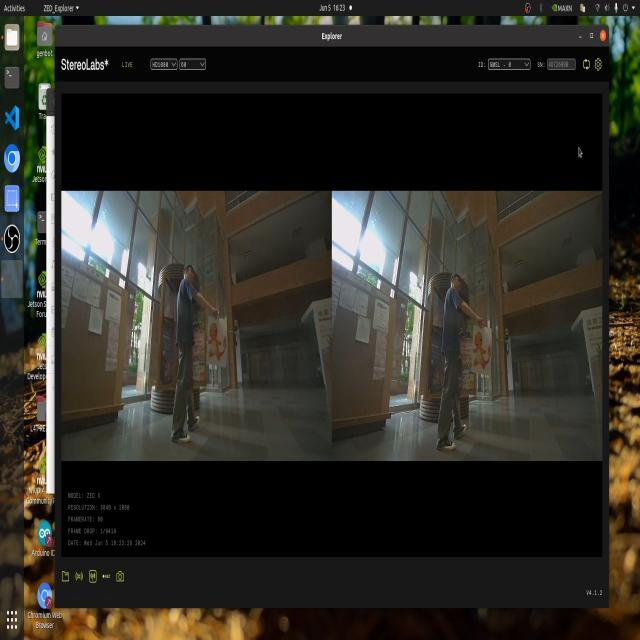red: (201, 321, 229, 372), (473, 327, 489, 370)
